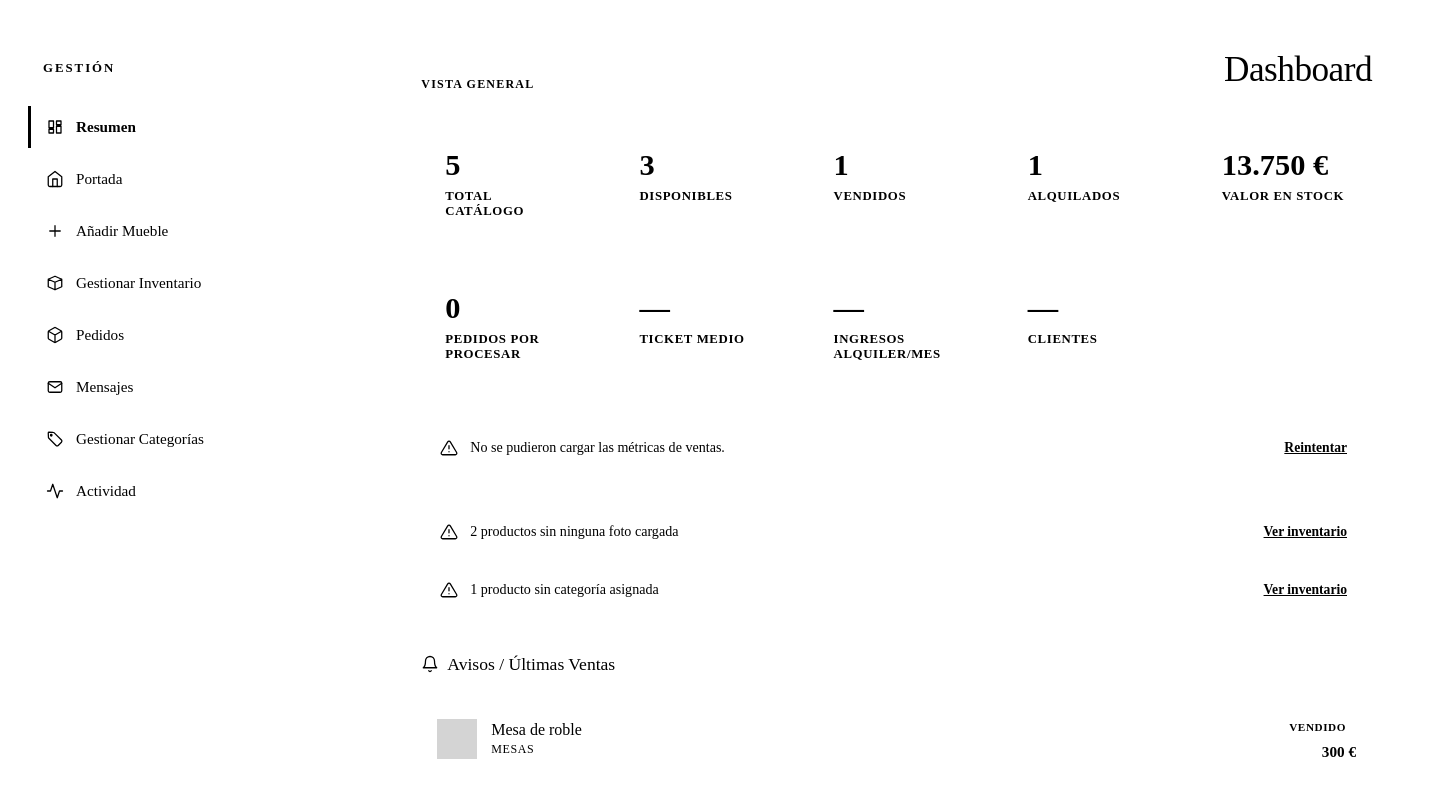
Scenario: Inventario — listado › cabecera con el recuento, y cada fila con nombre, categoría, estado y precio
Click the button "Gestionar Inventario".
click(185, 283)  # box [28,262,341,304]
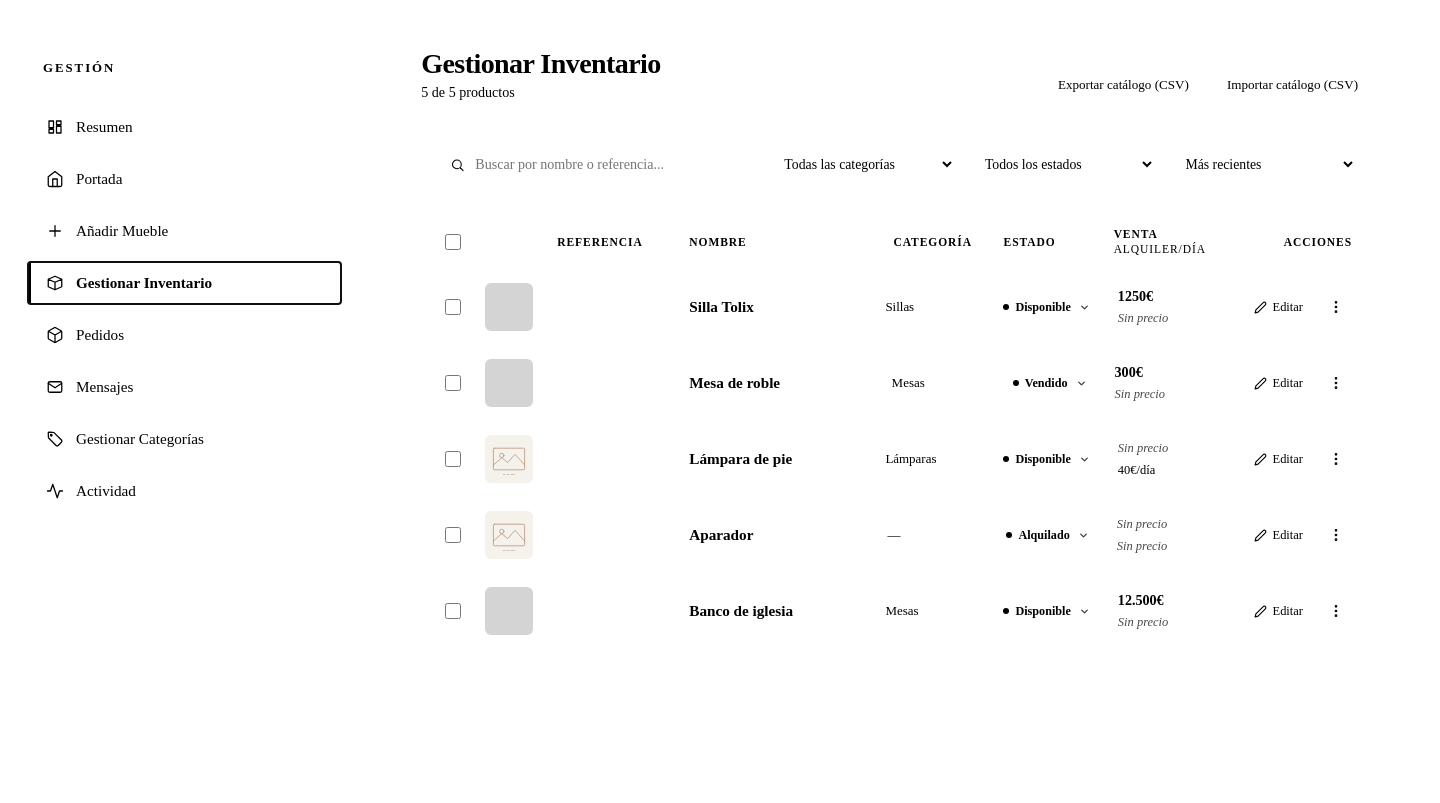
Expected: the heading "Gestionar Inventario" is shown, [421,48,661,80]
Expected: the text "5 de 5 productos" is shown, [421,84,515,100]
